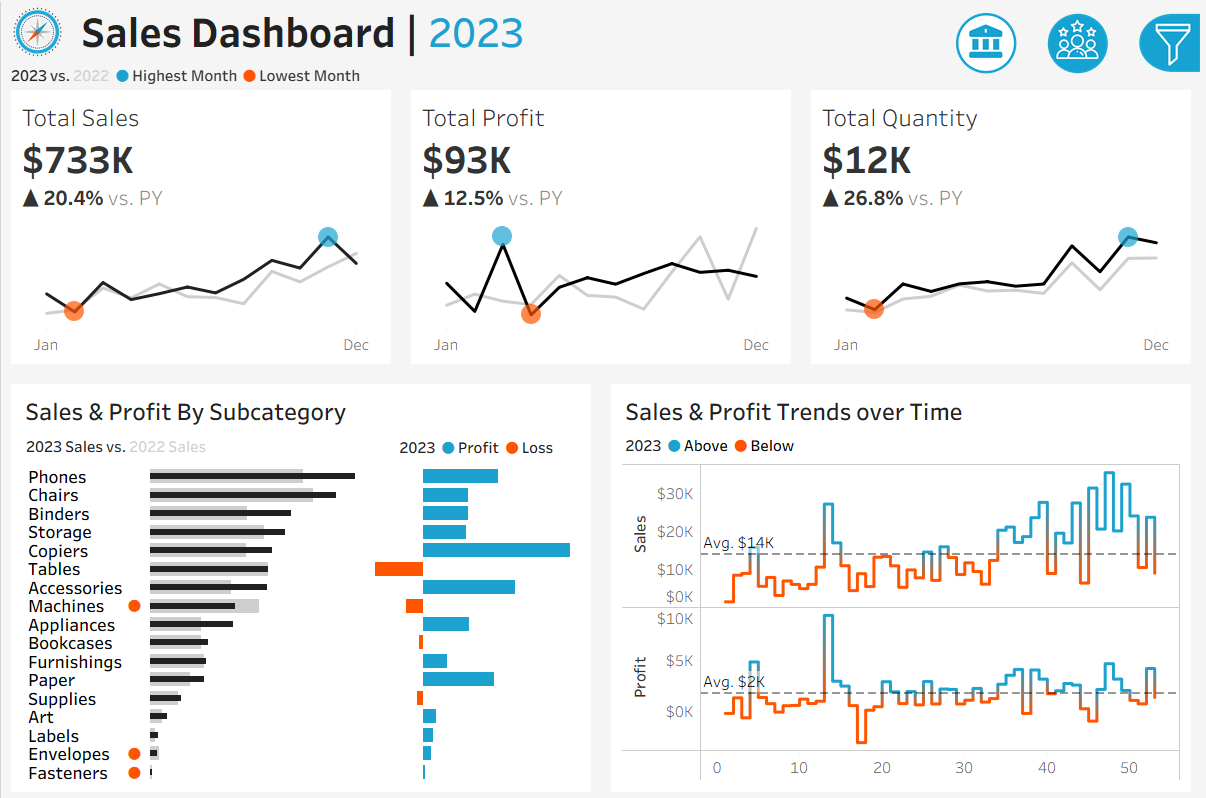

Layout of this report page (visuals, bound fields, positions):
{"tool":"tableau","page":{"name":"Sales Dashboard","canvas":[1200,800],"ordinal":1},"visuals":[{"type":"image","param":"Image/Icon - Logo.png","box":[0,0,73,59]},{"type":"text","box":[73,0,820,59]},{"type":"dashboard-object","box":[940,6,91,70]},{"type":"dashboard-object","box":[1031,6,91,70]},{"type":"blank","box":[952,10,237,86]},{"type":"worksheet","title":"Legend KPI","mark":"Automatic","box":[0,59,1200,29]},{"type":"worksheet","title":"KPI Sales","mark":"Automatic","rows":["Calculation_721701895347843083"],"cols":["Order Date"],"box":[0,88,400,284]},{"type":"worksheet","title":"KPI Profit","mark":"Automatic","rows":["CY Customers (copy)_3221481164533411843","Min/Max Sales (copy)_237846410425847814"],"cols":["Order Date"],"box":[400,88,400,284]},{"type":"worksheet","title":"KPI Quantity","mark":"Automatic","rows":["Min/Max Sales (copy) (copy)_237846410425856007"],"cols":["Order Date"],"box":[800,88,400,284]},{"type":"text","box":[952,96,237,37]},{"type":"parameter","param":"[Parameters].[Parameter 1]","box":[952,133,237,55]},{"type":"text","box":[952,188,237,32]},{"type":"filter","title":"KPI Sales","param":"[federated.1kpxa041aiai2y1cl4pui1t4eju9].[none:Category:nk]","box":[952,220,237,57]},{"type":"filter","title":"KPI Sales","param":"[federated.1kpxa041aiai2y1cl4pui1t4eju9].[none:Sub-Category:nk]","box":[952,277,237,57]},{"type":"blank","box":[952,334,237,60]},{"type":"text","box":[17,389,566,40]},{"type":"text","box":[617,389,566,40]},{"type":"text","box":[952,394,237,32]},{"type":"filter","title":"KPI Sales","param":"[federated.1kpxa041aiai2y1cl4pui1t4eju9].[none:Region:nk]","box":[952,426,237,57]},{"type":"worksheet","title":"Legend Subcategory","mark":"Automatic","box":[17,429,374,32]},{"type":"text","box":[391,429,192,32]},{"type":"text","box":[617,429,566,29]},{"type":"worksheet","title":"Weekly Trends","mark":"Automatic","rows":["Calculation_721701895334993921","CY Sales (copy)_237846410424180736"],"cols":["Order Date"],"box":[617,458,566,325]},{"type":"worksheet","title":"Subcategory Comparison","mark":"Bar","rows":["Sub-Category","Calculation_2435040078806671369"],"cols":["CY Sales (copy)_721701895335804930","Calculation_721701895334993921","CY Sales (copy)_237846410424180736"],"box":[17,461,566,321.9]},{"type":"filter","title":"KPI Sales","param":"[federated.1kpxa041aiai2y1cl4pui1t4eju9].[none:State:nk]","box":[952,483,237,57]},{"type":"filter","title":"KPI Sales","param":"[federated.1kpxa041aiai2y1cl4pui1t4eju9].[none:City:nk]","box":[952,540,237,57]}]}

Visuals, with their boxes in screenshot pixels (x1, y1, x2, y2), scaled from the page's 1200x800 canvas onto the 1206x798 screenshot:
image: 0 0 73 59
text: 73 0 897 59
dashboard-object: 945 6 1036 76
dashboard-object: 1036 6 1128 76
blank: 957 10 1195 96
"Legend KPI" worksheet: 0 59 1205 88
"KPI Sales" worksheet: 0 88 402 371
"KPI Profit" worksheet: 402 88 804 371
"KPI Quantity" worksheet: 804 88 1205 371
text: 957 96 1195 133
parameter: 957 133 1195 188
text: 957 188 1195 219
"KPI Sales" filter: 957 219 1195 276
"KPI Sales" filter: 957 276 1195 333
blank: 957 333 1195 393
text: 17 388 586 428
text: 620 388 1189 428
text: 957 393 1195 425
"KPI Sales" filter: 957 425 1195 482
"Legend Subcategory" worksheet: 17 428 393 460
text: 393 428 586 460
text: 620 428 1189 457
"Weekly Trends" worksheet: 620 457 1189 781
"Subcategory Comparison" worksheet (Bar marks): 17 460 586 781
"KPI Sales" filter: 957 482 1195 539
"KPI Sales" filter: 957 539 1195 596
